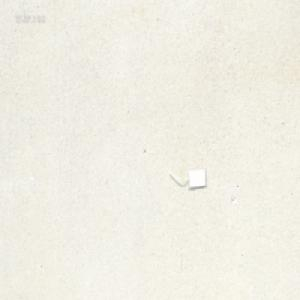LuggageTag: (167, 166, 206, 188)
